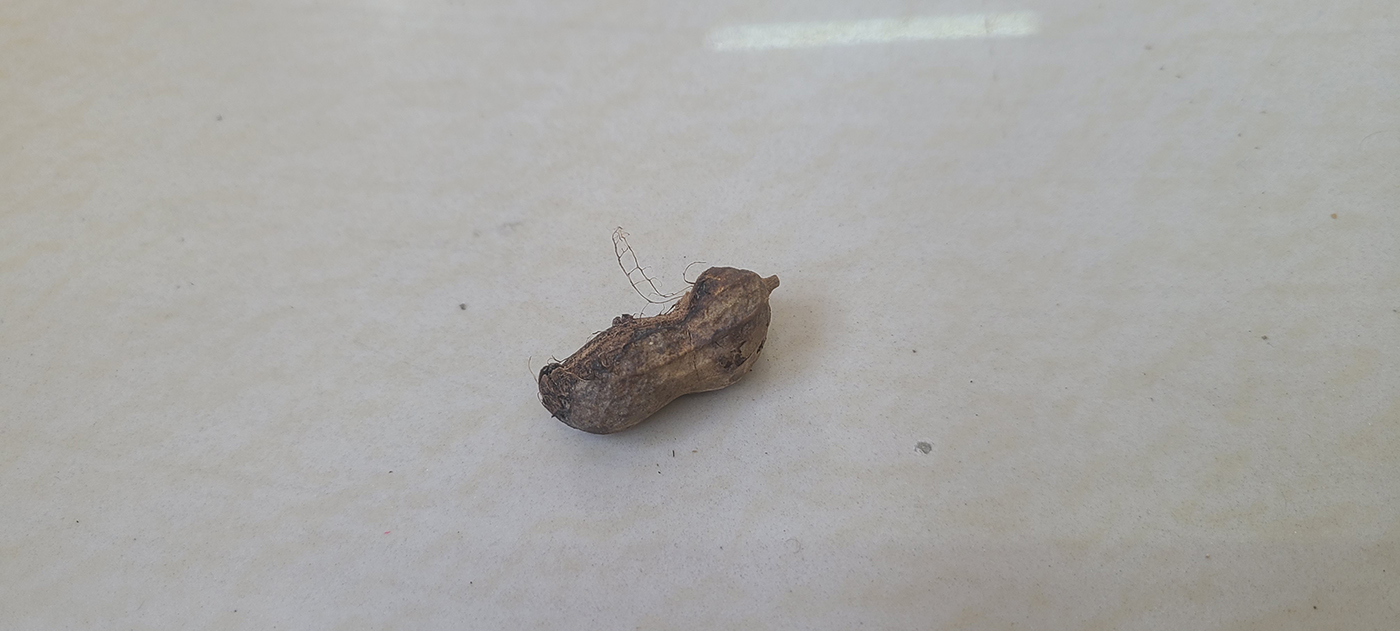l: (534, 264, 774, 437)
